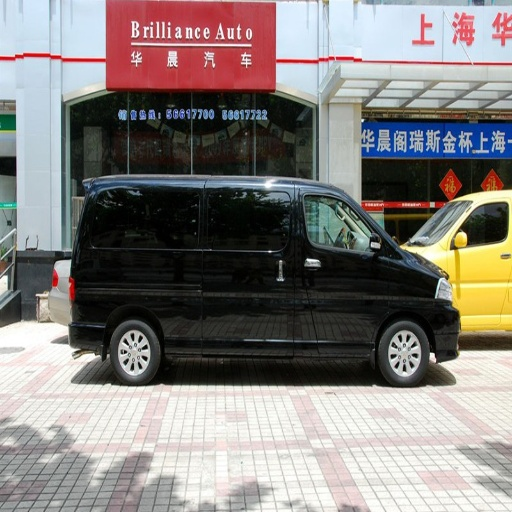trunk: (77, 248, 142, 343)
